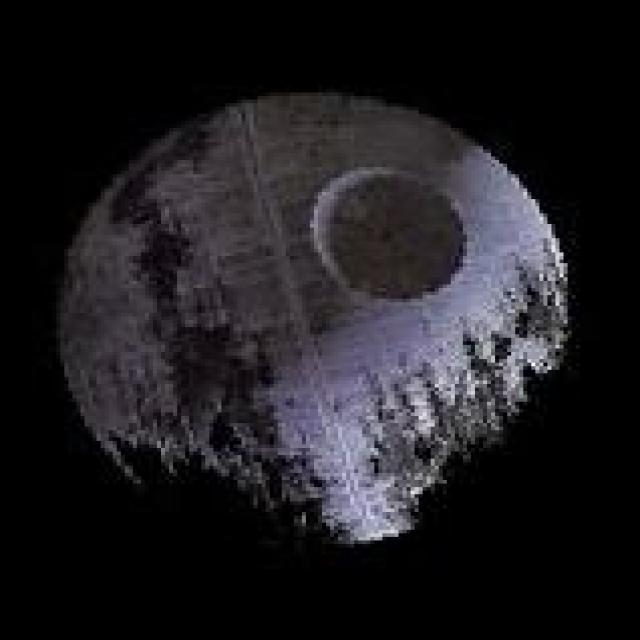Death Star: (48, 82, 580, 551)
